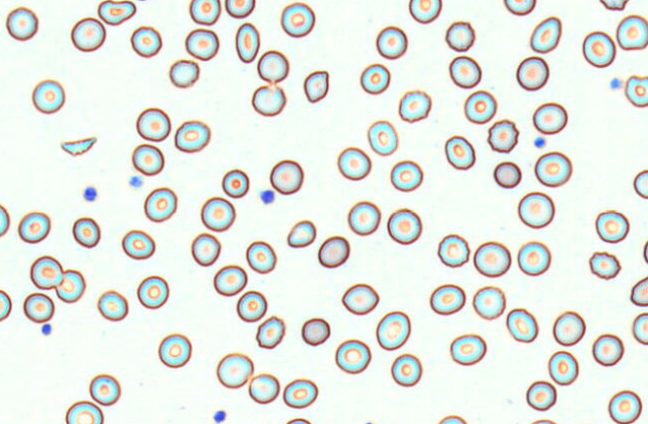PLT: (83, 185, 99, 204), (129, 174, 146, 191), (260, 187, 275, 206), (531, 136, 550, 149), (608, 76, 624, 91), (213, 409, 228, 422), (40, 324, 54, 337)
RBC: (375, 310, 410, 350), (517, 191, 554, 228), (534, 151, 572, 187), (473, 241, 511, 277), (216, 352, 253, 388), (334, 338, 371, 374), (386, 207, 422, 244), (582, 30, 616, 68), (341, 282, 379, 315), (200, 196, 235, 231), (280, 2, 315, 37), (143, 186, 177, 222), (517, 240, 551, 276), (135, 107, 171, 141), (31, 79, 65, 114), (70, 17, 105, 51), (269, 159, 303, 194), (157, 333, 191, 368), (472, 285, 506, 320), (607, 389, 642, 423), (347, 200, 381, 235), (552, 310, 585, 346), (516, 55, 549, 91), (174, 119, 210, 152), (505, 307, 538, 343), (449, 333, 486, 365), (529, 16, 561, 53), (29, 255, 63, 289), (337, 146, 371, 180), (463, 90, 497, 124), (595, 209, 629, 243), (251, 83, 286, 116), (5, 6, 38, 41), (429, 283, 465, 315), (486, 119, 519, 153), (136, 275, 169, 309), (532, 102, 567, 134), (616, 14, 647, 50), (367, 119, 398, 155), (317, 235, 350, 268), (398, 89, 431, 122), (448, 55, 481, 88), (257, 49, 289, 83), (213, 264, 247, 296), (185, 28, 219, 60), (437, 233, 469, 267), (375, 25, 407, 59), (547, 350, 578, 385), (444, 135, 475, 170), (282, 378, 318, 408), (17, 211, 50, 243), (131, 143, 164, 175), (592, 333, 624, 366), (390, 159, 423, 191), (390, 353, 422, 386), (235, 22, 260, 63), (130, 25, 162, 57), (89, 373, 121, 405), (245, 240, 276, 273), (55, 269, 85, 303), (121, 229, 155, 259), (236, 290, 267, 322), (97, 289, 128, 321), (255, 315, 285, 348), (191, 232, 220, 266), (23, 292, 54, 323), (248, 373, 279, 404), (525, 380, 556, 411), (359, 63, 390, 94), (445, 20, 475, 51), (588, 251, 621, 279), (168, 59, 199, 88), (72, 216, 100, 248), (65, 400, 103, 423), (301, 317, 330, 346), (221, 168, 249, 198), (408, 0, 442, 23), (189, 0, 220, 25), (493, 161, 521, 188), (224, 0, 255, 18), (630, 276, 647, 306), (503, 0, 536, 15), (632, 312, 647, 345), (633, 169, 647, 198), (0, 289, 11, 321), (0, 203, 10, 236), (599, 0, 629, 10), (437, 414, 467, 423), (285, 417, 311, 423), (642, 239, 648, 264), (529, 418, 556, 423), (360, 420, 377, 424)
Schistocyte: (94, 0, 138, 26), (285, 219, 320, 250), (303, 69, 331, 105), (56, 135, 99, 157), (624, 75, 648, 112)
